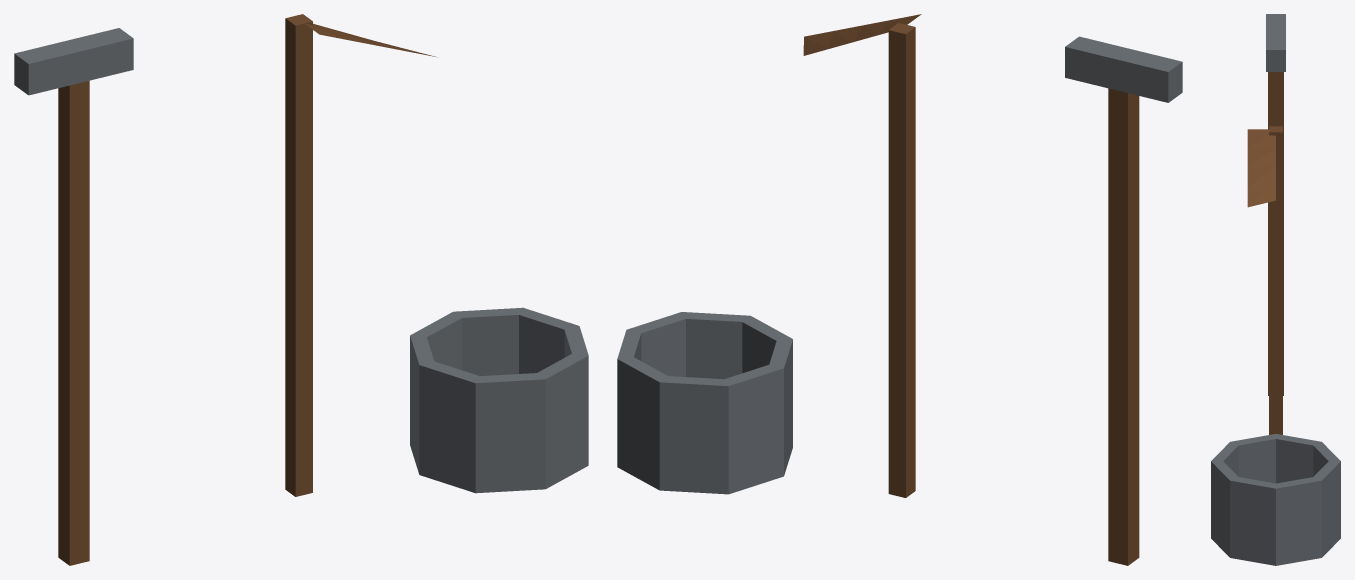
The model's file is tools_set.obj.
The picture shows the model from 3 angles, left to right: view 1: azimuth 30°, elevation 25°; view 2: azimuth 150°, elevation 25°; view 3: azimuth 270°, elevation 25°; orthographic projection. The views are drawn at different scales.
Parts seen in each view (by area): view 1: pail, hoe_handle, sickle_handle, hoe_blade; view 2: pail, hoe_handle, sickle_handle, hoe_blade; view 3: pail, sickle_handle, hoe_handle, hoe_blade.
Boxes of the visible parts, <box> form: pail: <box>410,307,588,493</box>; hoe_handle: <box>58,80,89,565</box>; sickle_handle: <box>285,14,435,496</box>; hoe_blade: <box>14,28,133,95</box>; pail: <box>617,312,792,494</box>; hoe_handle: <box>1108,88,1139,565</box>; sickle_handle: <box>803,14,921,497</box>; hoe_blade: <box>1065,36,1182,102</box>; pail: <box>1211,434,1340,565</box>; sickle_handle: <box>1247,126,1282,434</box>; hoe_handle: <box>1268,72,1283,395</box>; hoe_blade: <box>1266,14,1285,71</box>.
Size of the model in its own units: 2.23 by 1.96 by 0.64.
